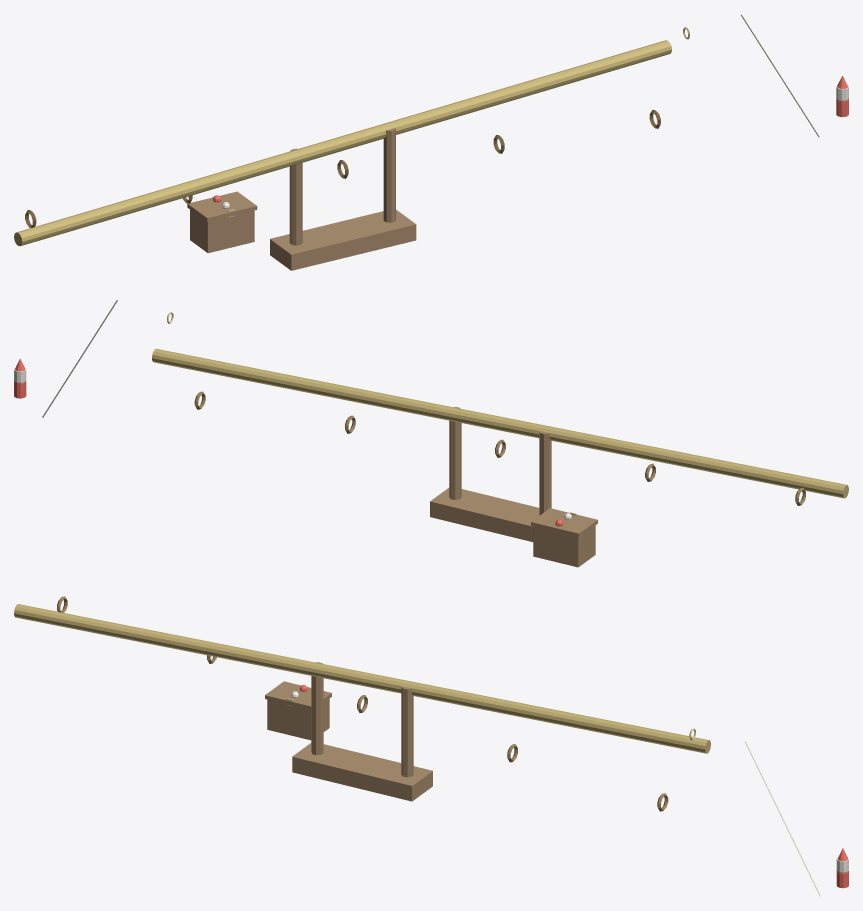
File: fishing_rod.glb
The picture shows the model from 3 angles, top to bottom: view 1: azimuth 30°, elevation 25°; view 2: azimuth 150°, elevation 25°; view 3: azimuth 330°, elevation 25°; orthographic projection. The views are drawn at different scales.
Parts seen in each view (by area): view 1: fishing_rod; view 2: fishing_rod; view 3: fishing_rod.
Boxes of the visible parts, bbox=[...] form: fishing_rod: bbox=[14, 14, 848, 270]; fishing_rod: bbox=[14, 299, 848, 567]; fishing_rod: bbox=[14, 596, 848, 896].
Size of the model in its own units: 2.72 by 0.4355 by 0.3208.
